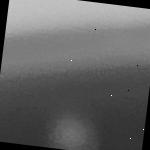colony: (33, 104, 113, 150)
